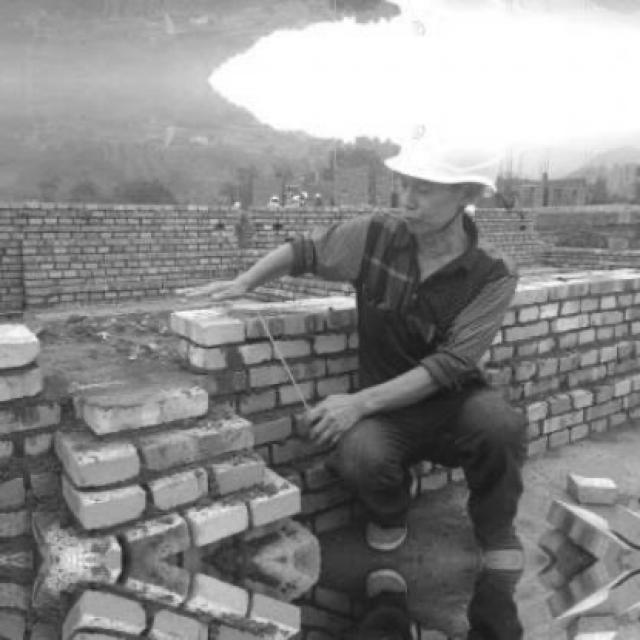helmet: (390, 106, 503, 230), (390, 0, 504, 56)
